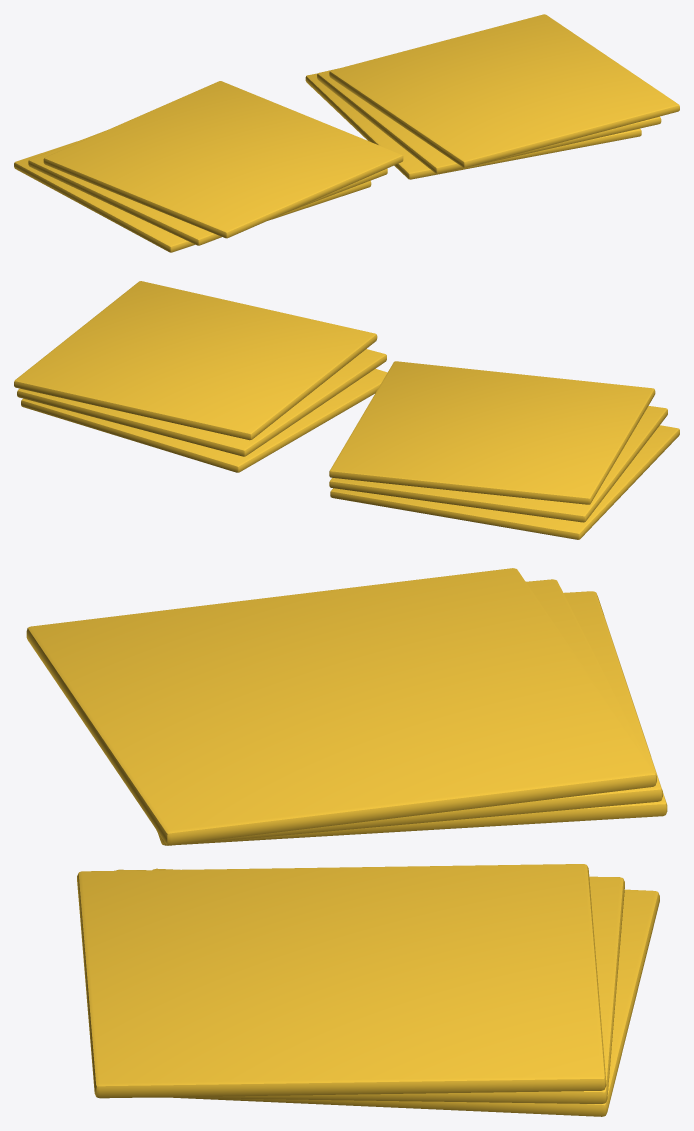
The model's file is Cheese_Slices.fbx.
3 views of the same model, one above another, from view 1: azimuth 30°, elevation 25°; view 2: azimuth 150°, elevation 25°; view 3: azimuth 270°, elevation 25° (orthographic). The views are drawn at different scales.
Visible parts, largest first — view 1: Cheese_Slices; view 2: Cheese_Slices; view 3: Cheese_Slices.
Part boxes in pixels (x1=…): Cheese_Slices: x1=14, y1=14, x2=679, y2=252; Cheese_Slices: x1=14, y1=281, x2=679, y2=539; Cheese_Slices: x1=26, y1=568, x2=667, y2=1116.
Bounding box in the file's own units: 0.2006 × 0.0084 × 0.1027.
